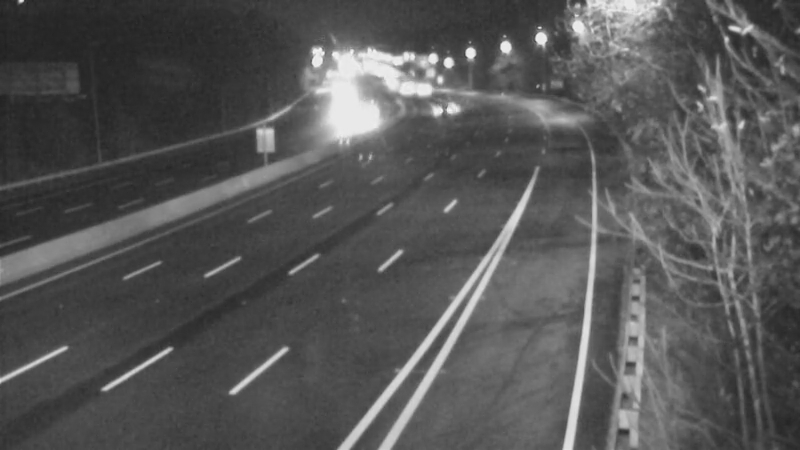vehicle: (385, 65, 435, 115), (397, 66, 447, 116), (417, 82, 467, 132), (348, 90, 398, 140)
